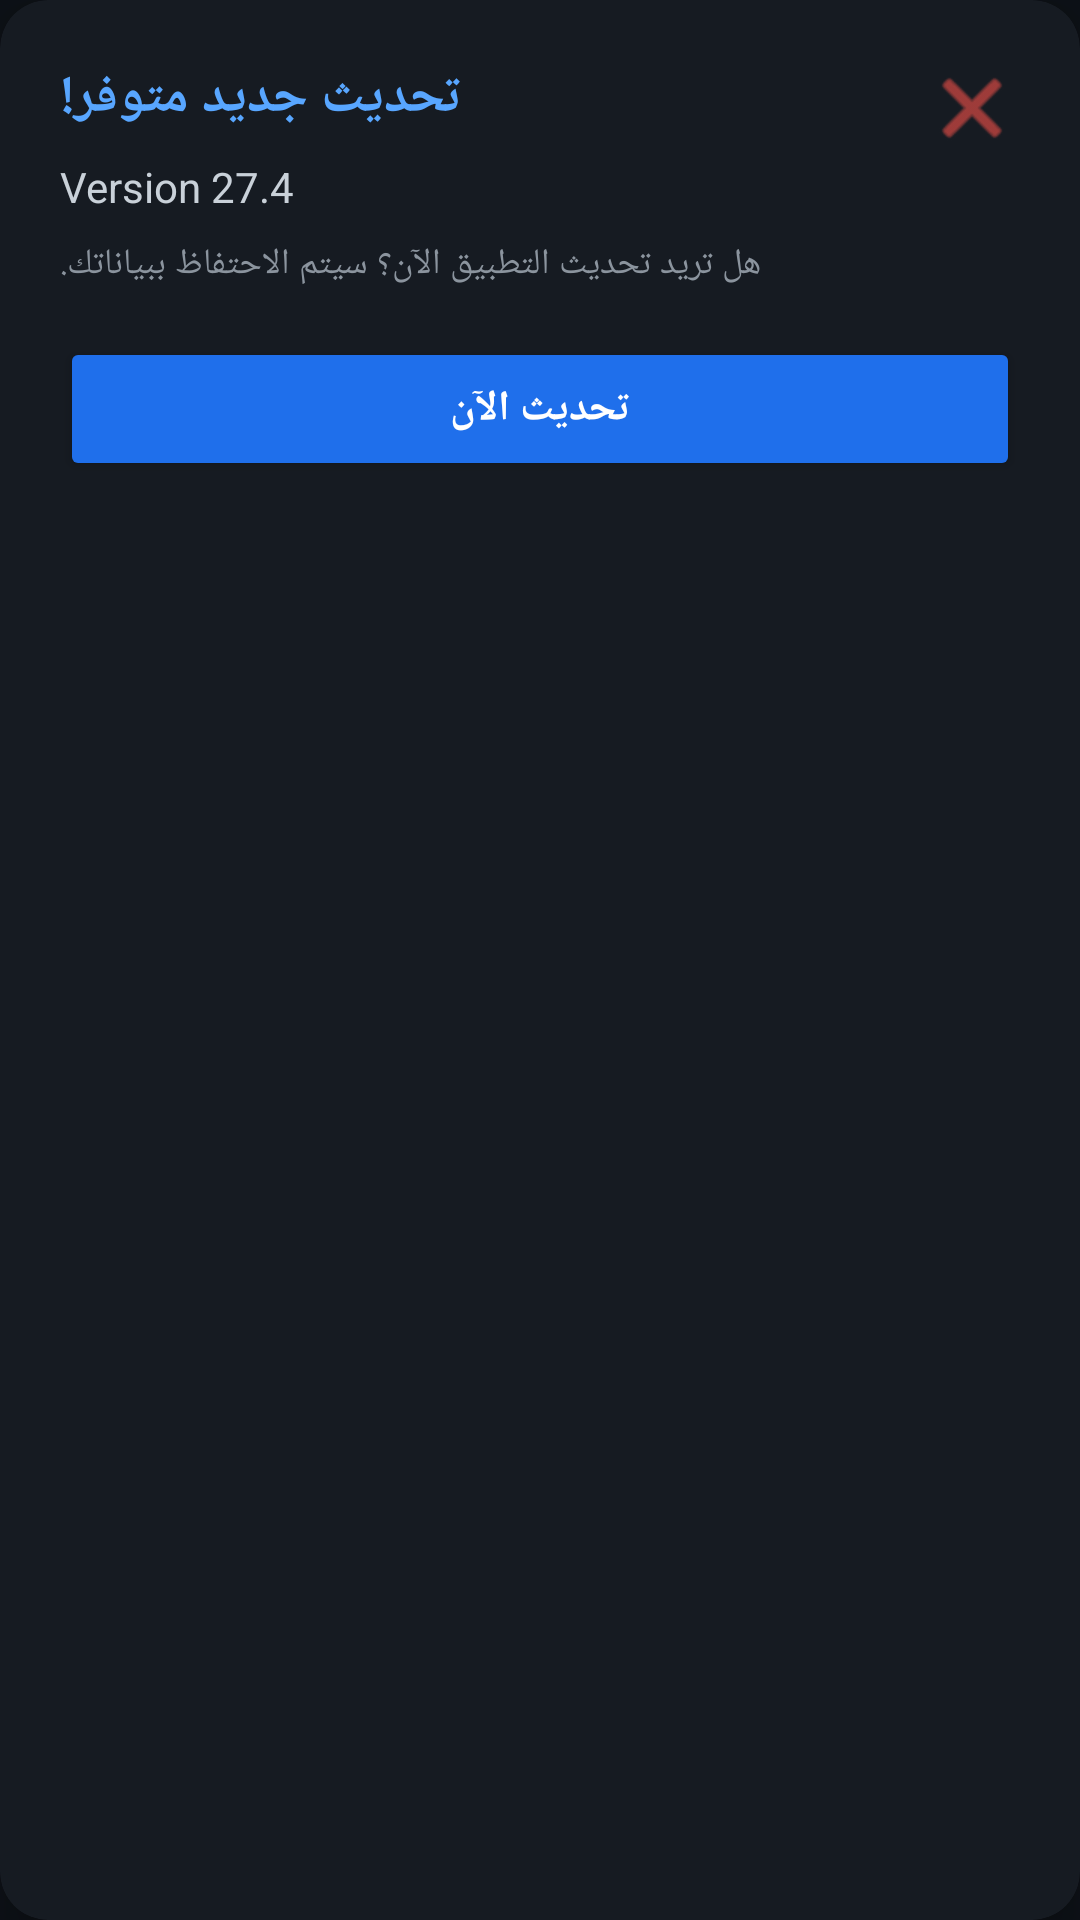

Where icons sit on this 1080px x 1920px app screen, as {"x1": x1, "y1": y1, "x2": x2, "y2": y2}:
close clear cancel: {"x1": 942, "y1": 78, "x2": 1002, "y2": 138}
